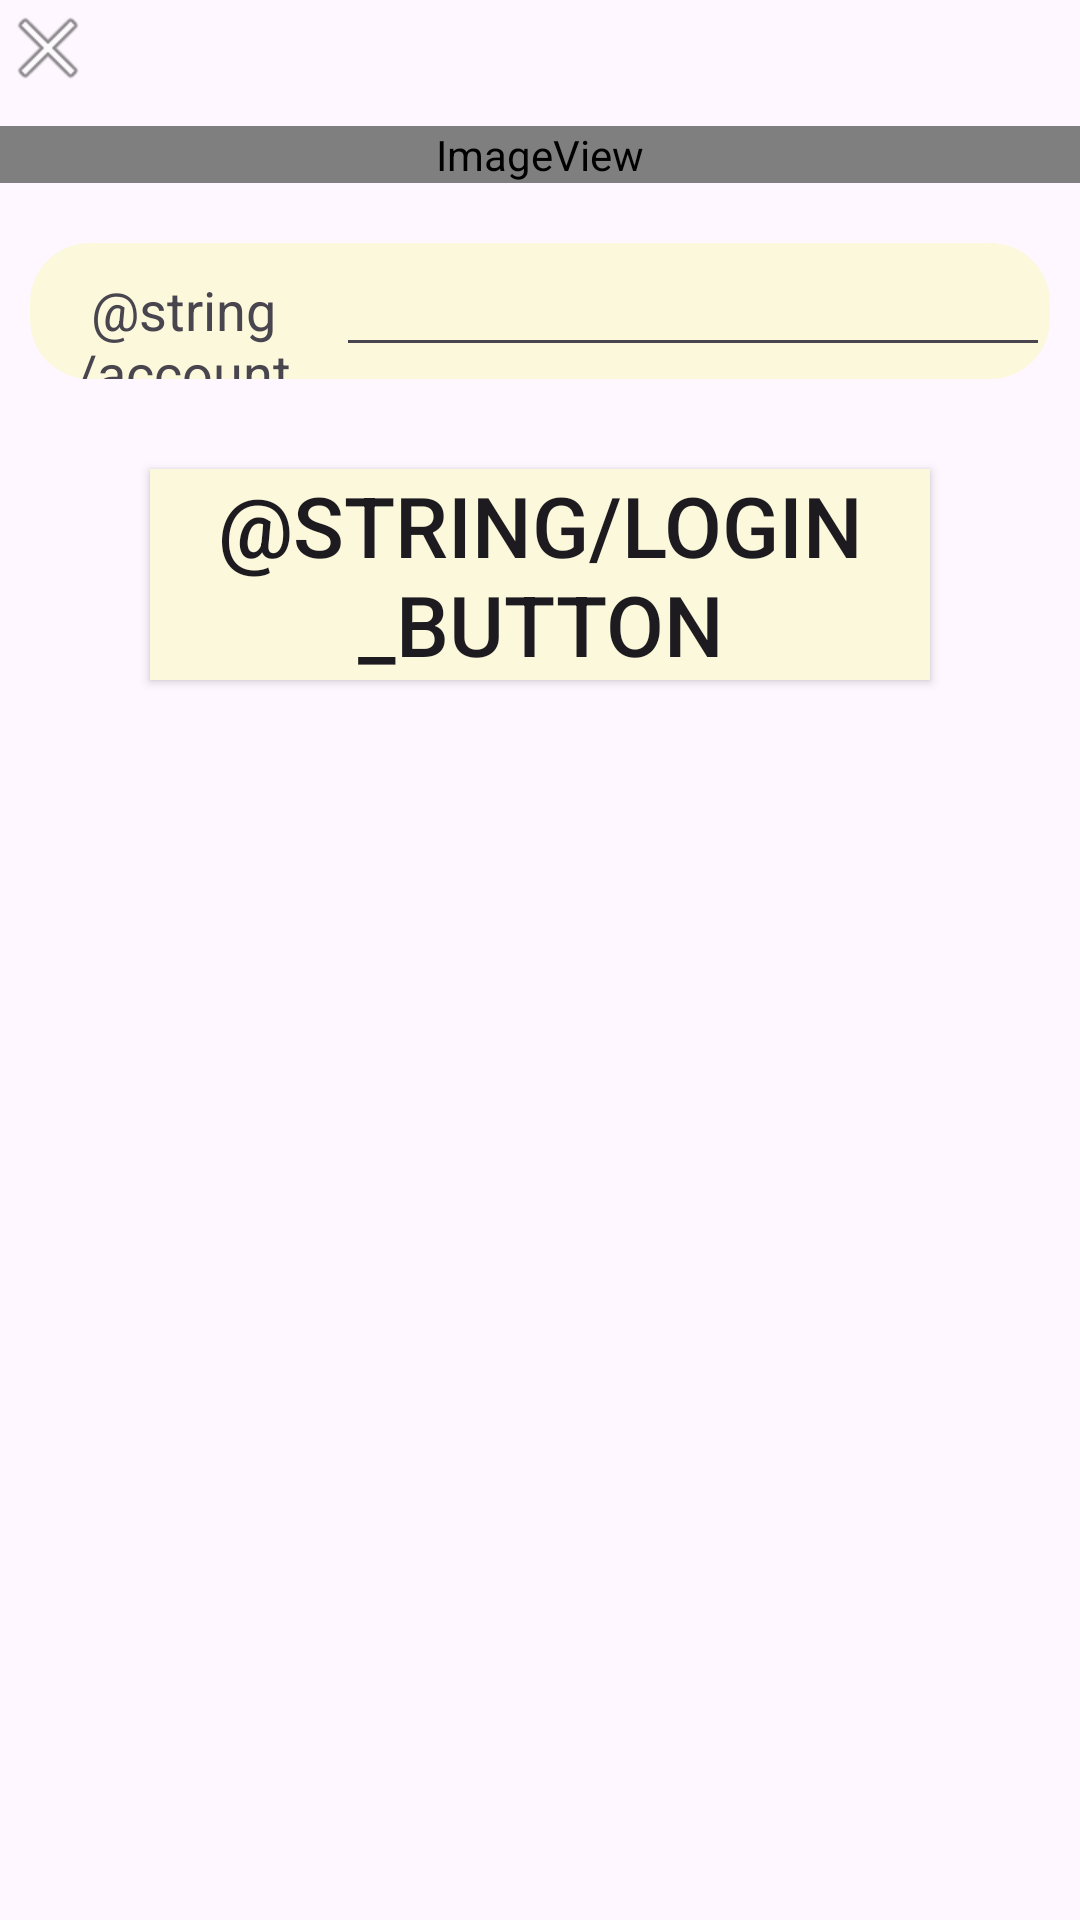

Where to tap for icons on this 1080px x 1920px app screen, as point (x, y):
close clear cancel: point (48, 48)
